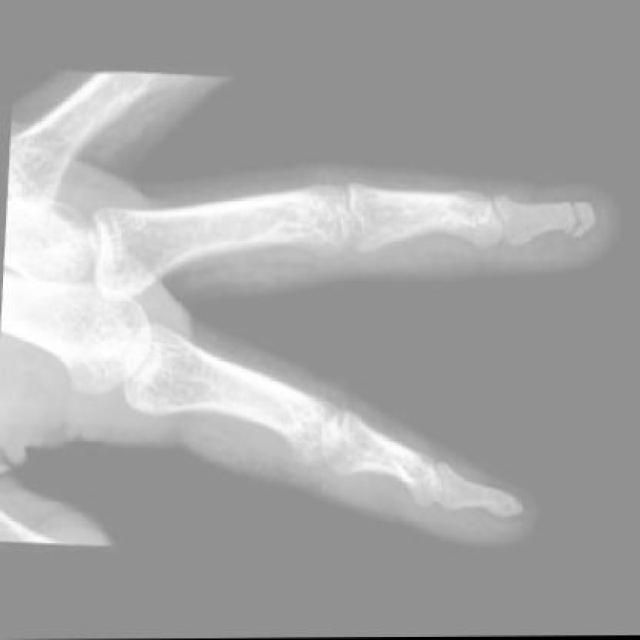Fracture: (561, 197, 597, 236)
